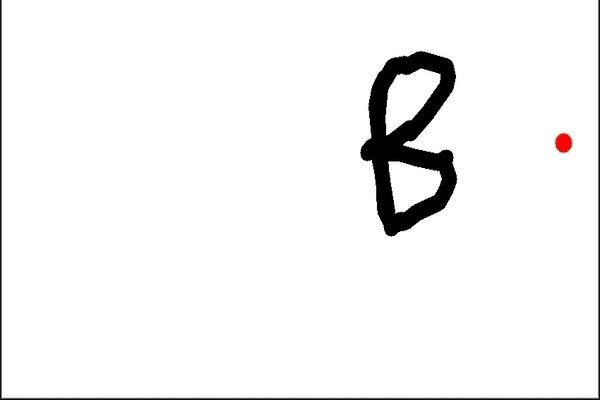B: (356, 47, 467, 241)
